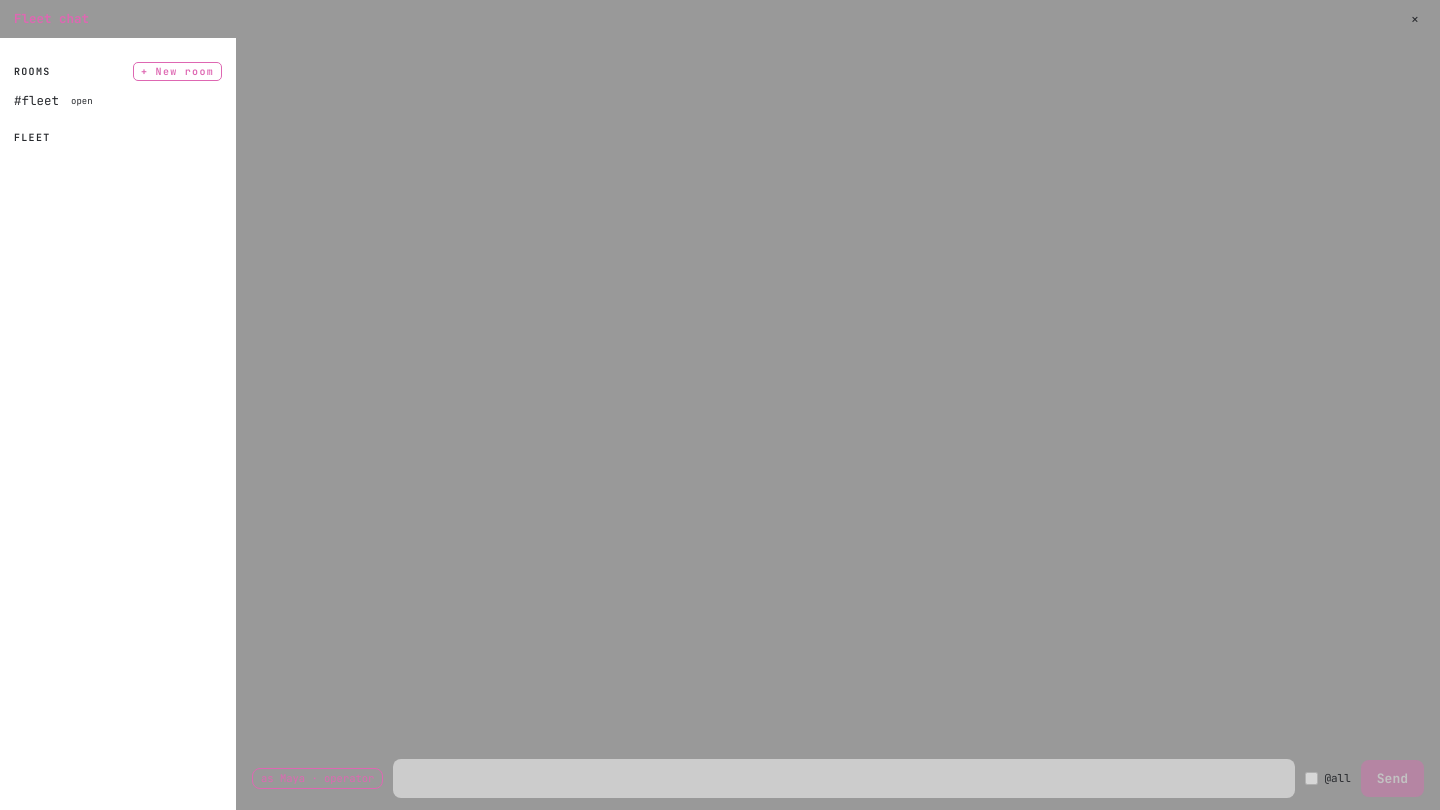
Test: ChatroomPane — HED-74c operator composer + room management wiring › Escape closes the room-create modal without collapsing the whole pane
This screenshot has width=1440, height=810.
Step 1. Click the button with test id "comms-new-room-btn" → click(178, 72), box [133,62,222,81]
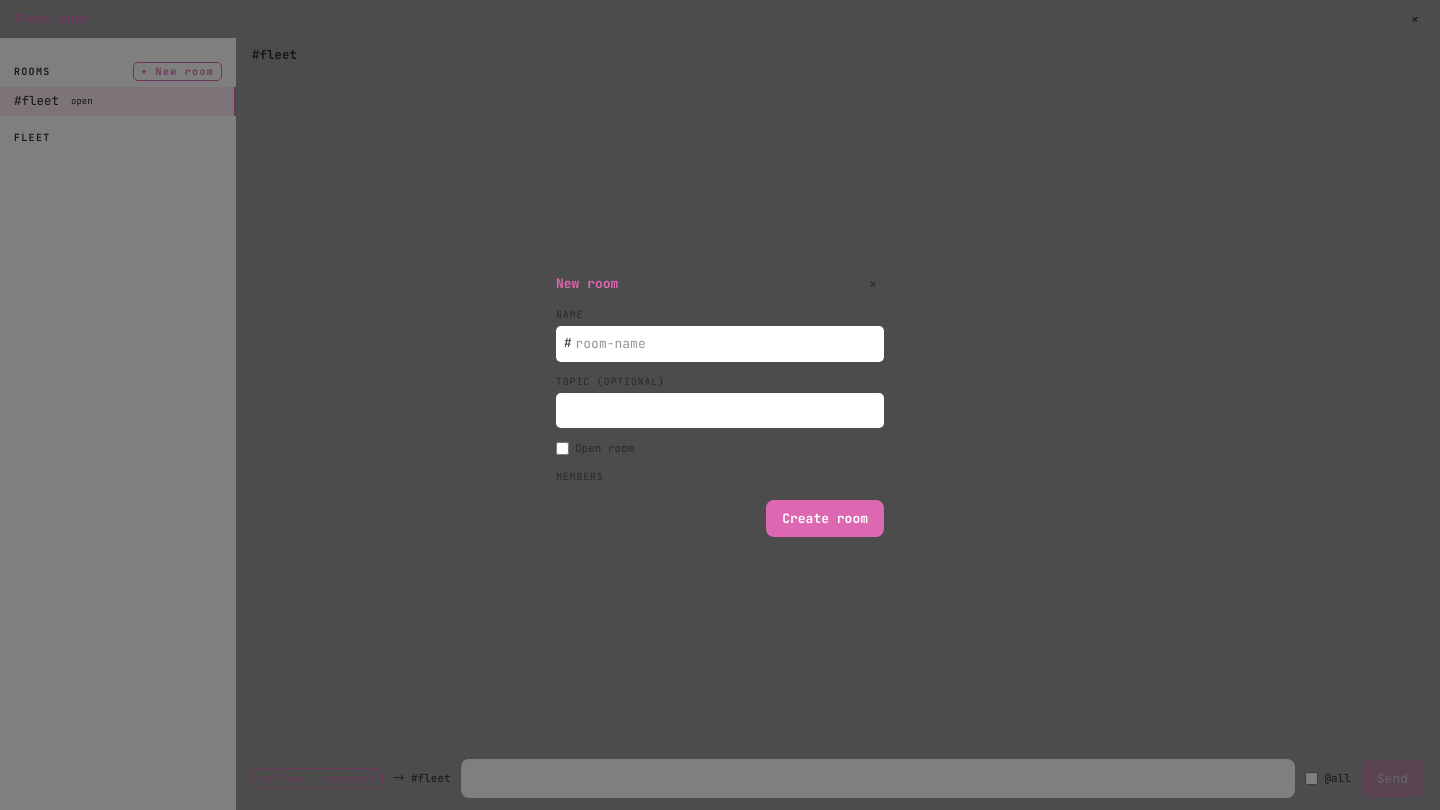
Expected: the element with test id "comms-room-modal" is shown
Step 2. Press Escape
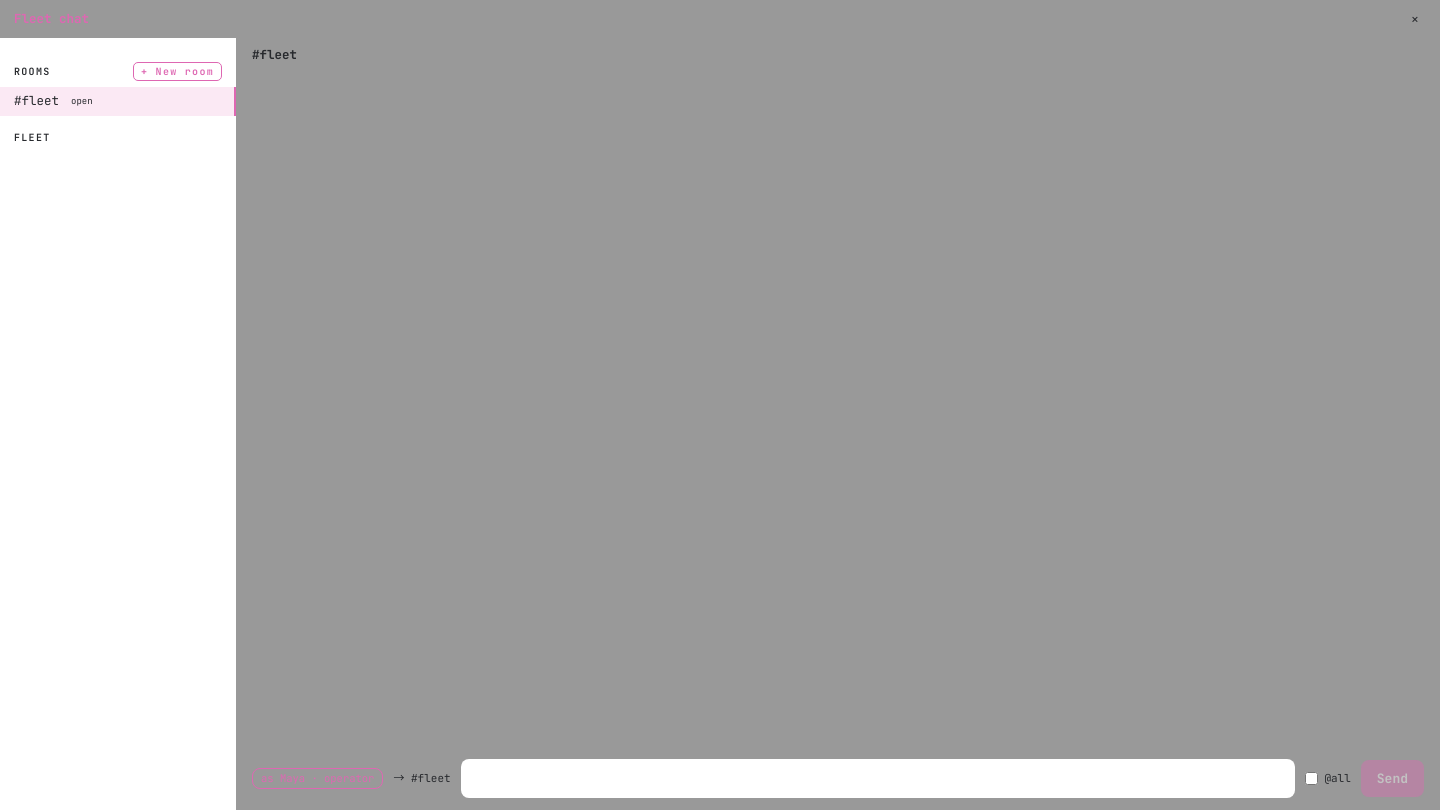
Expected: the element with test id "comms-room-modal" is gone
